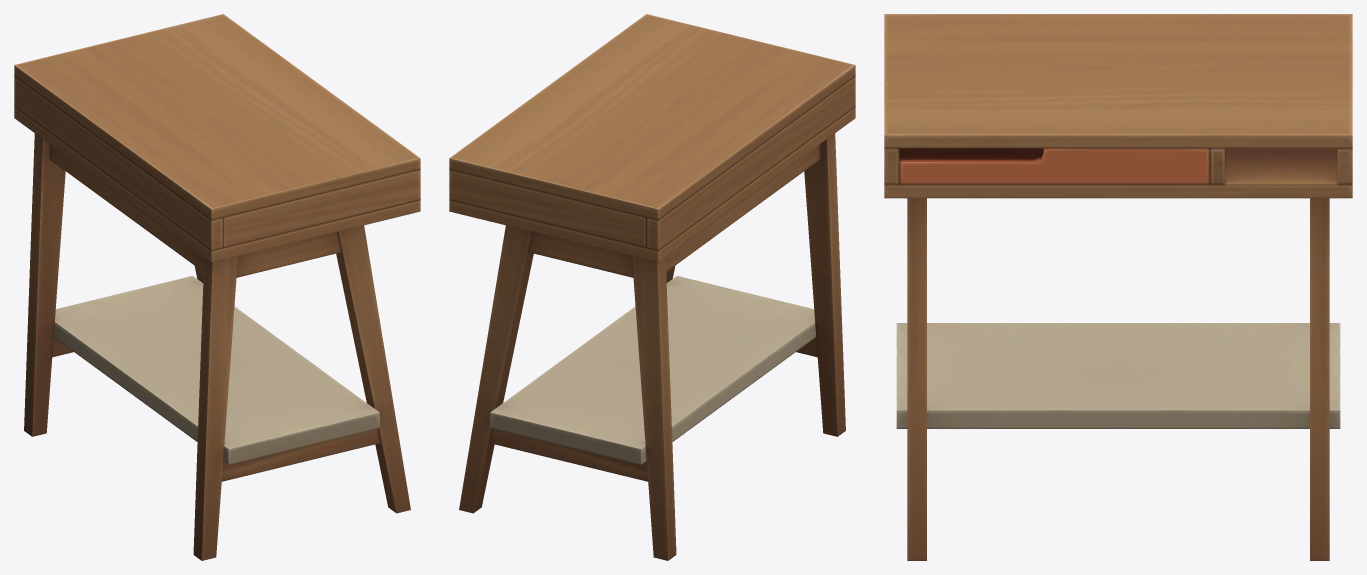
The model's file is TinyConsole.fbx.
3 views of the same model, side by side, from view 1: azimuth 30°, elevation 25°; view 2: azimuth 150°, elevation 25°; view 3: azimuth 270°, elevation 25° (orthographic). The views are drawn at different scales.
Visible parts, largest first — view 1: TinyLiving_TinyConsole; view 2: TinyLiving_TinyConsole; view 3: TinyLiving_TinyConsole.
Part boxes in pixels (left/top/right/bottom): TinyLiving_TinyConsole: left=14, top=14, right=420, bottom=560; TinyLiving_TinyConsole: left=449, top=14, right=855, bottom=560; TinyLiving_TinyConsole: left=884, top=14, right=1352, bottom=560.
Bounding box in the file's own units: 48 × 78.66 × 78.4.
